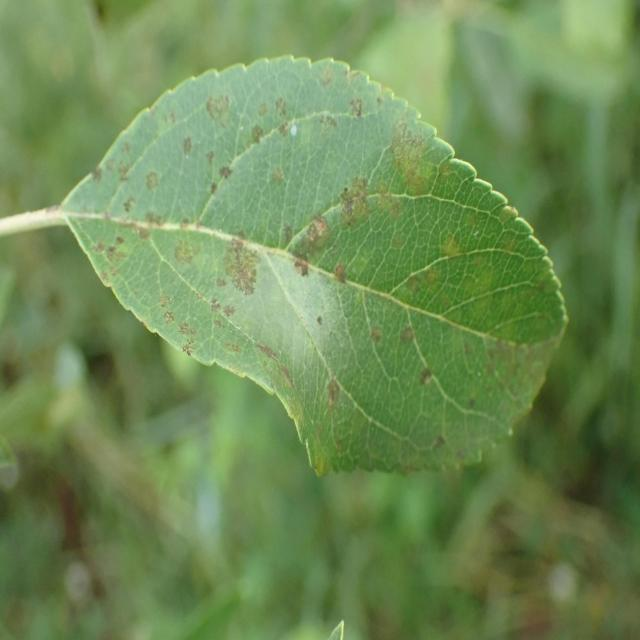scab: (74, 43, 574, 480)
